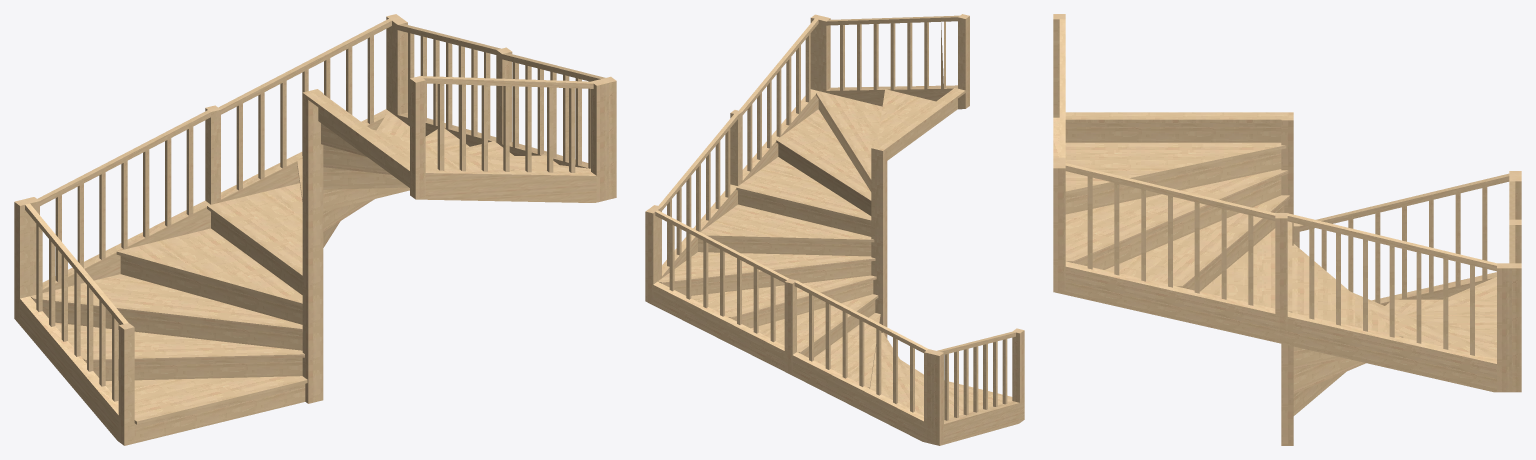
File: sh-contrib-staircase-270-box.glb
3 views of the same model, side by side, from view 1: azimuth 30°, elevation 25°; view 2: azimuth 150°, elevation 25°; view 3: azimuth 270°, elevation 25° (orthographic). The views are drawn at different scales.
Visible parts, largest first — view 1: 72_72; view 2: 72_72; view 3: 72_72.
Boxes of the visible parts, bbox=[...] form: 72_72: bbox=[14, 14, 616, 445]; 72_72: bbox=[645, 14, 1024, 445]; 72_72: bbox=[1053, 14, 1521, 445].
Size of the model in its own units: 1 by 1 by 1.
1 material, 1 textured.
